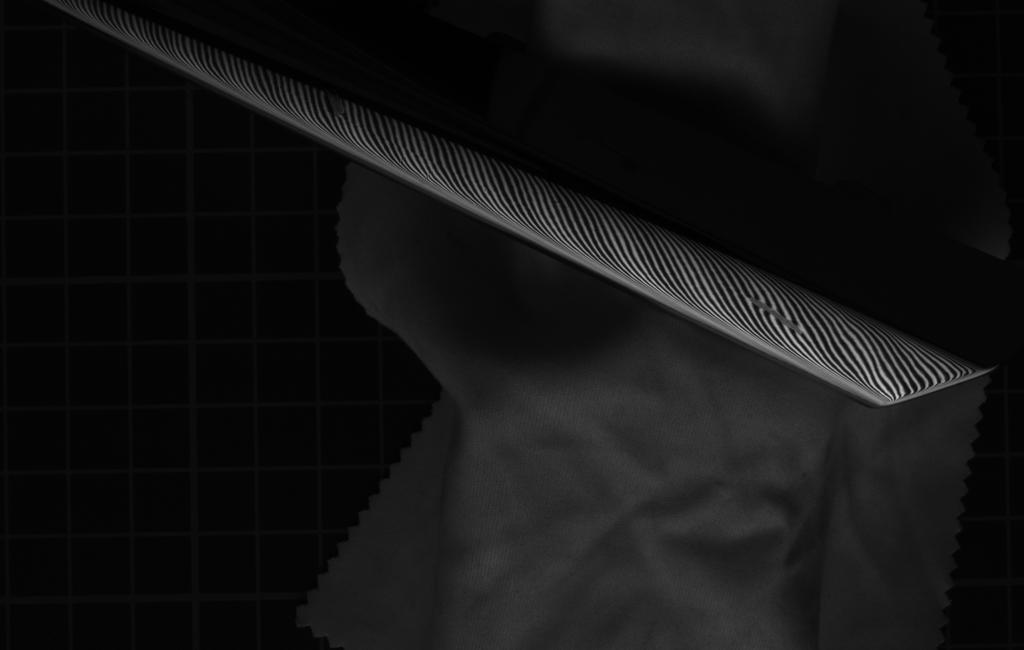Scratch: (737, 288, 815, 343)
